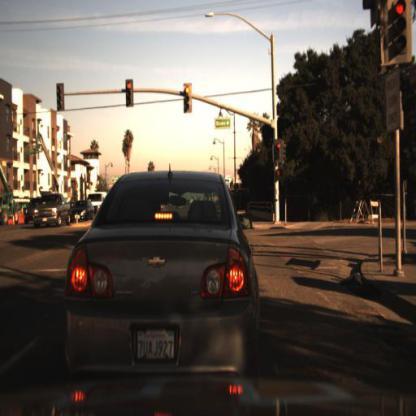car: (63, 169, 263, 389), (33, 191, 71, 229), (18, 195, 46, 229), (67, 198, 96, 226), (85, 188, 109, 221)
trafficLight: (184, 82, 194, 116), (56, 84, 65, 111)
trafficLight-Red: (383, 2, 414, 65), (388, 1, 406, 56), (274, 140, 285, 165), (126, 79, 135, 109), (277, 139, 282, 155)
